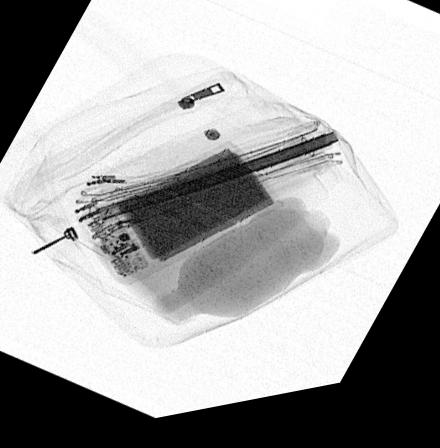Powerbank: (82, 149, 283, 288)
